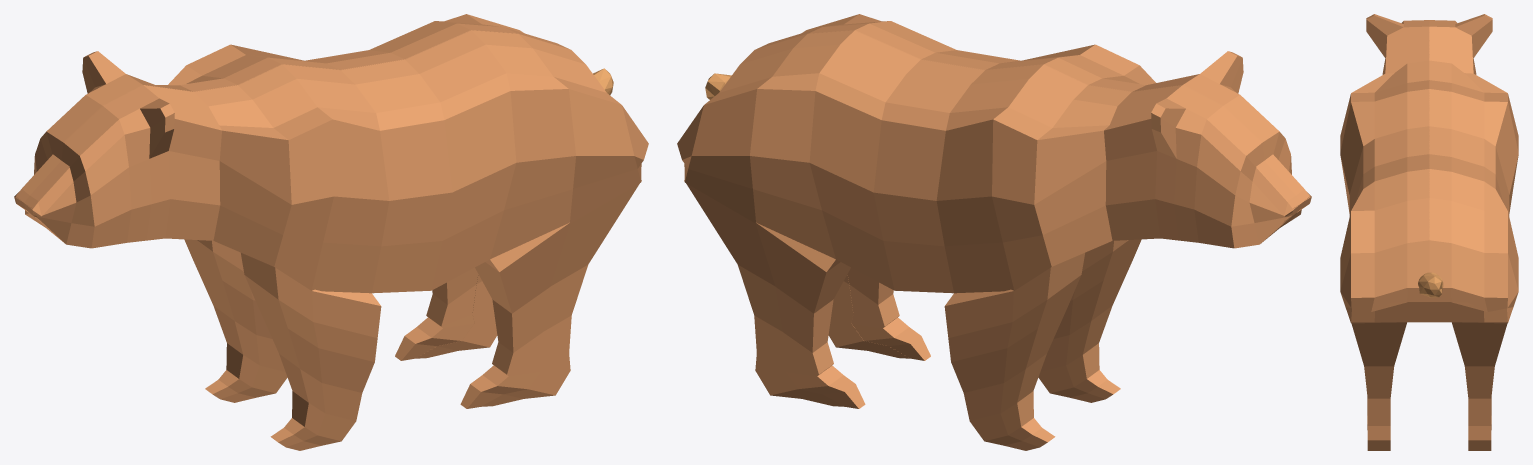
The model's file is PlayableCharakter_bear_v1.fbx.
The picture shows the model from 3 angles, left to right: view 1: azimuth 30°, elevation 25°; view 2: azimuth 150°, elevation 25°; view 3: azimuth 270°, elevation 25°; orthographic projection. The views are drawn at different scales.
Parts seen in each view (by area): view 1: Plane; view 2: Plane; view 3: Plane, Icosphere.
Boxes of the visible parts, box(x1,y1,x2,y2) form: Plane: box(14, 14, 648, 450); Plane: box(677, 14, 1311, 450); Plane: box(1340, 14, 1518, 450); Icosphere: box(1418, 272, 1443, 297).
Size of the model in its own units: 838 by 517 by 286.
